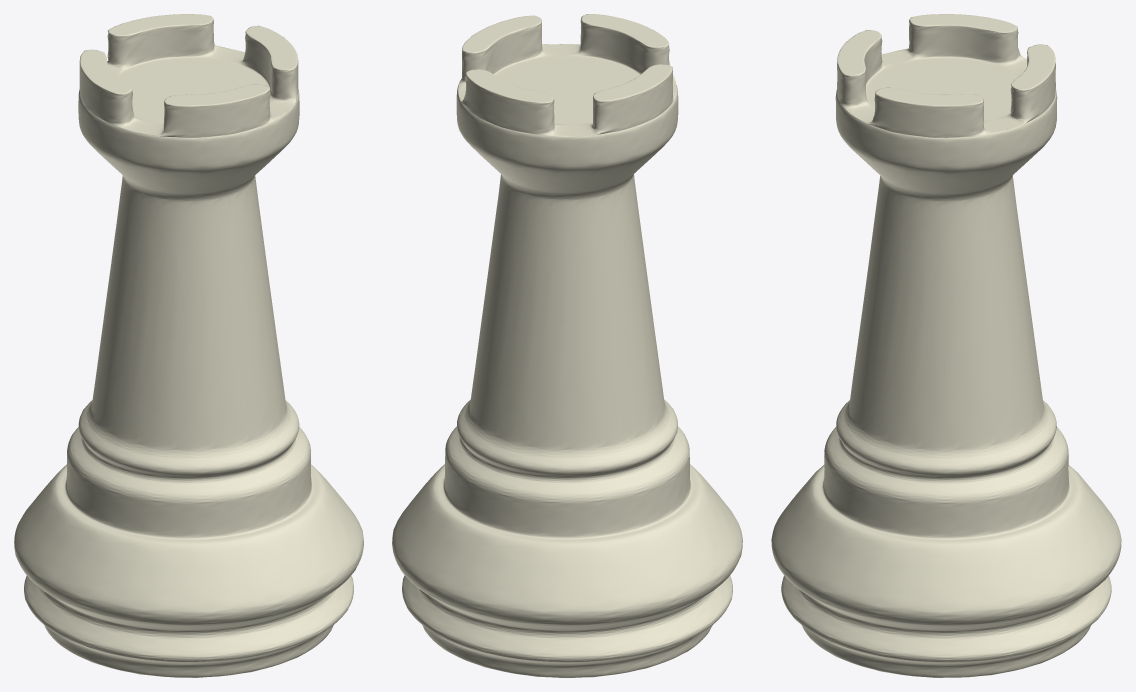
3 views of the same model, side by side, from view 1: azimuth 30°, elevation 25°; view 2: azimuth 150°, elevation 25°; view 3: azimuth 270°, elevation 25° (orthographic).
Parts seen in each view (by area): view 1: Rook_03_2; view 2: Rook_03_2; view 3: Rook_03_2.
Part boxes in pixels (x1,y1,x2,y2): Rook_03_2: (14,14,363,677); Rook_03_2: (392,14,742,677); Rook_03_2: (771,14,1121,677).
Bounding box in the file's own units: 0.2944 × 0.5182 × 0.2944.
